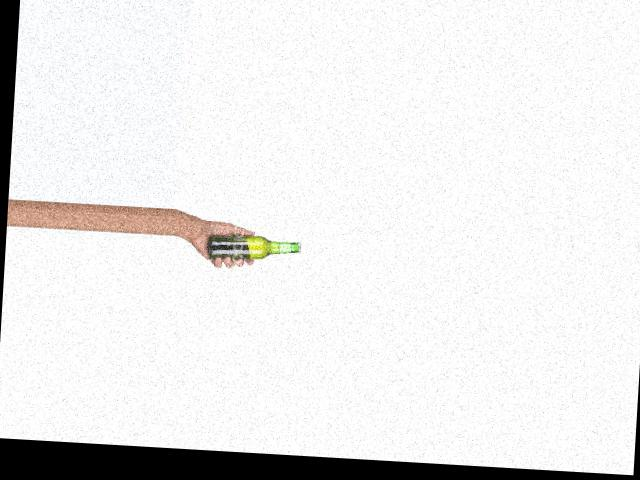beer: (207, 232, 301, 262)
